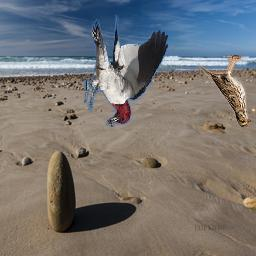Sparrow: (199, 55, 252, 127)
Woodpecker: (84, 15, 168, 127)
